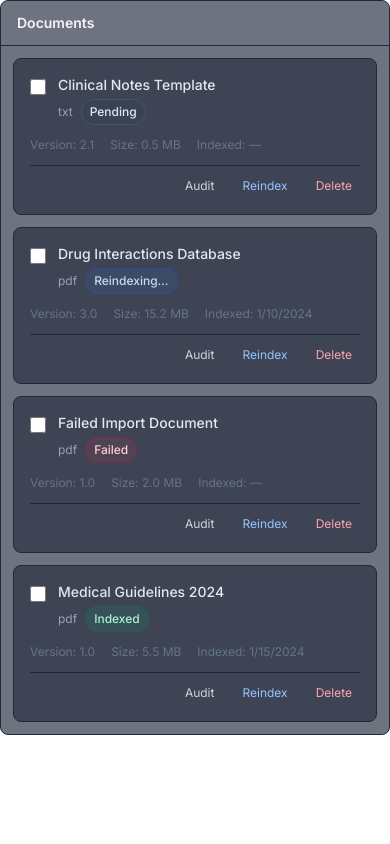
Test: DocumentTable › selection › shows bulk action buttons when documents selected
Expected: the text "Delete (" is not shown
What coordinates should you click on to do the following:
click the checkbox named "Select Medical Guidelines 2024"
I would click on:
 (38, 594)
Its box is [30,586,46,602].
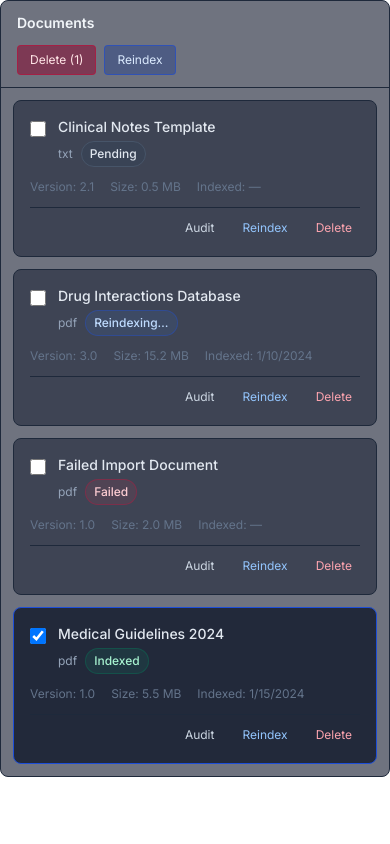
Now the button "Delete (1)" is shown, box [17,45,96,75]
